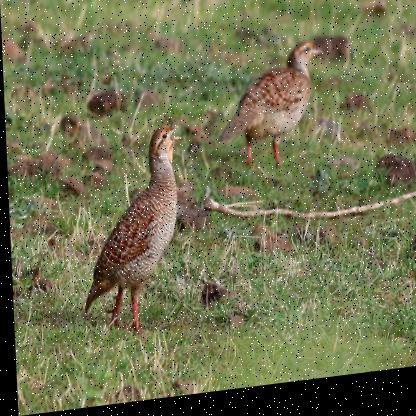Burung: (77, 127, 189, 342)
